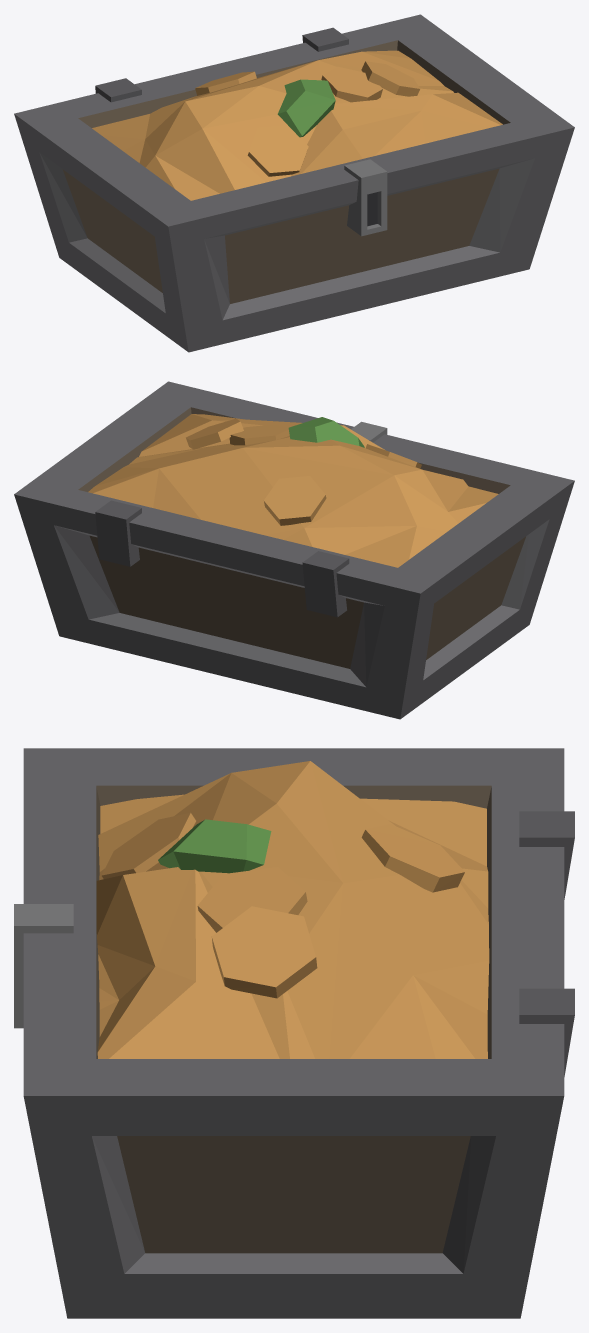
Rendered from SM_Prop_Chest_Treasure_03.glb.
3 renders of one model, top to bottom at view 1: azimuth 30°, elevation 25°; view 2: azimuth 150°, elevation 25°; view 3: azimuth 270°, elevation 25°, orthographic. The views are drawn at different scales.
Parts seen in each view (by area): view 1: SM_Prop_Chest_Treasure_03_part00, SM_Prop_Chest_Treasure_03_part01; view 2: SM_Prop_Chest_Treasure_03_part00, SM_Prop_Chest_Treasure_03_part01; view 3: SM_Prop_Chest_Treasure_03_part00, SM_Prop_Chest_Treasure_03_part01.
Part boxes in pixels (x1,y1,x2,y2): SM_Prop_Chest_Treasure_03_part00: (14, 14, 574, 352); SM_Prop_Chest_Treasure_03_part01: (92, 50, 502, 200); SM_Prop_Chest_Treasure_03_part00: (14, 381, 574, 719); SM_Prop_Chest_Treasure_03_part01: (88, 414, 498, 567); SM_Prop_Chest_Treasure_03_part00: (14, 748, 574, 1318); SM_Prop_Chest_Treasure_03_part01: (96, 761, 489, 1058).
Size of the model in its own units: 0.6377 by 0.293 by 0.4349.
1 material, 1 textured.
